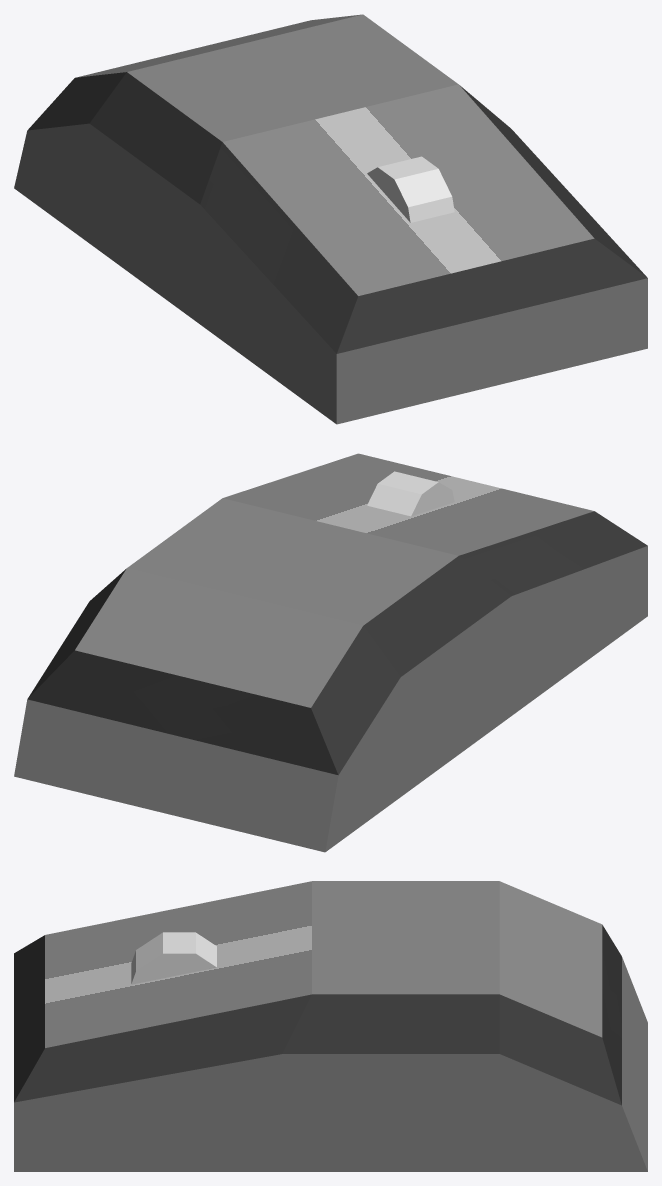
The model's file is PCMouse.fbx.
The picture shows the model from 3 angles, top to bottom: view 1: azimuth 30°, elevation 25°; view 2: azimuth 150°, elevation 25°; view 3: azimuth 270°, elevation 25°; orthographic projection.
Visible parts, largest first — view 1: PCMouse; view 2: PCMouse; view 3: PCMouse.
Part boxes in pixels (bbox=[...]): PCMouse: bbox=[14, 14, 647, 424]; PCMouse: bbox=[14, 453, 647, 852]; PCMouse: bbox=[14, 881, 647, 1171].
Size of the model in its own units: 9.95 by 4.96 by 17.87.
Materials: 1 (1 with a texture image).
